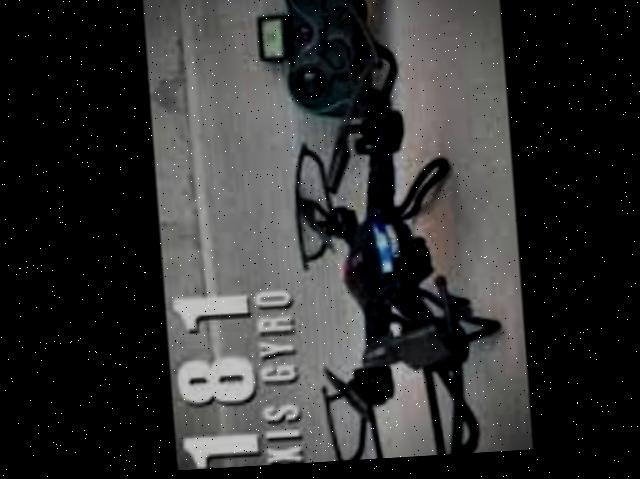drone: (276, 52, 492, 466)
